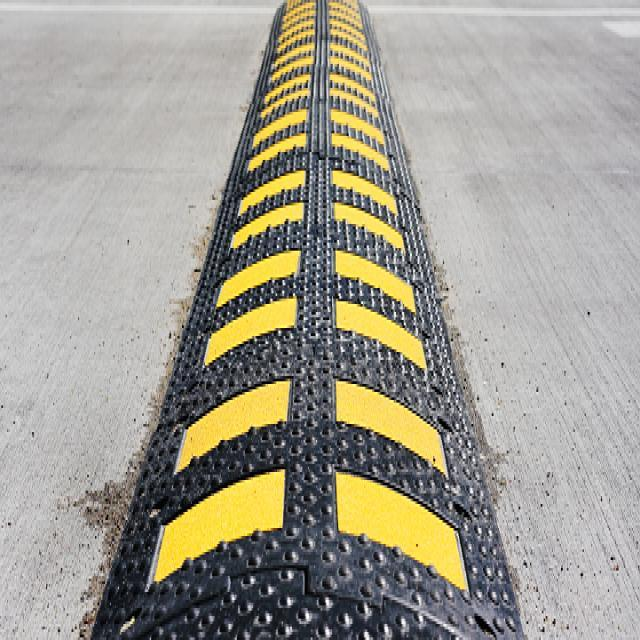speed-bump: (123, 6, 502, 640)
